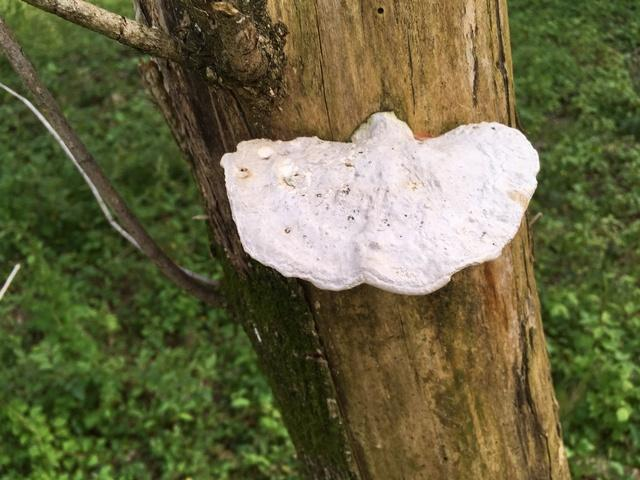Non-edible Mushroom: (218, 109, 540, 297)
